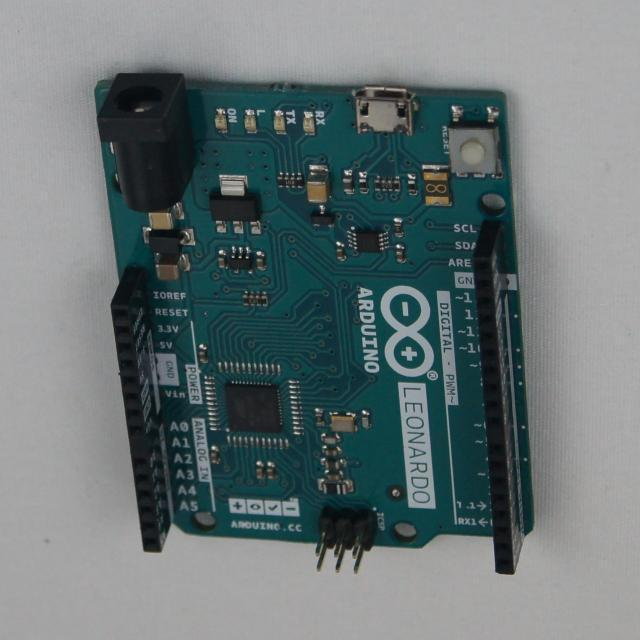Arduino-leonardo: (96, 73, 534, 574)
